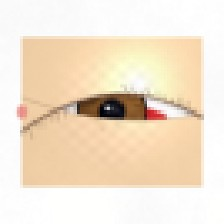hemorrhage_spot: (84, 83, 182, 161)
